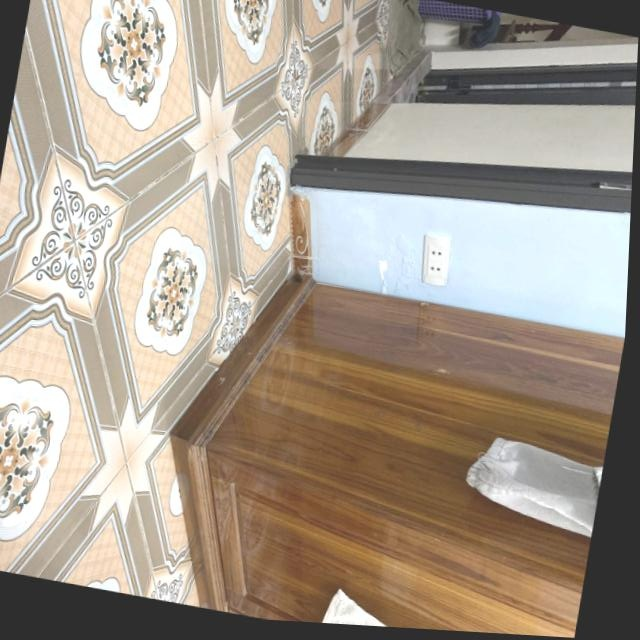outlet: (417, 231, 456, 287)
